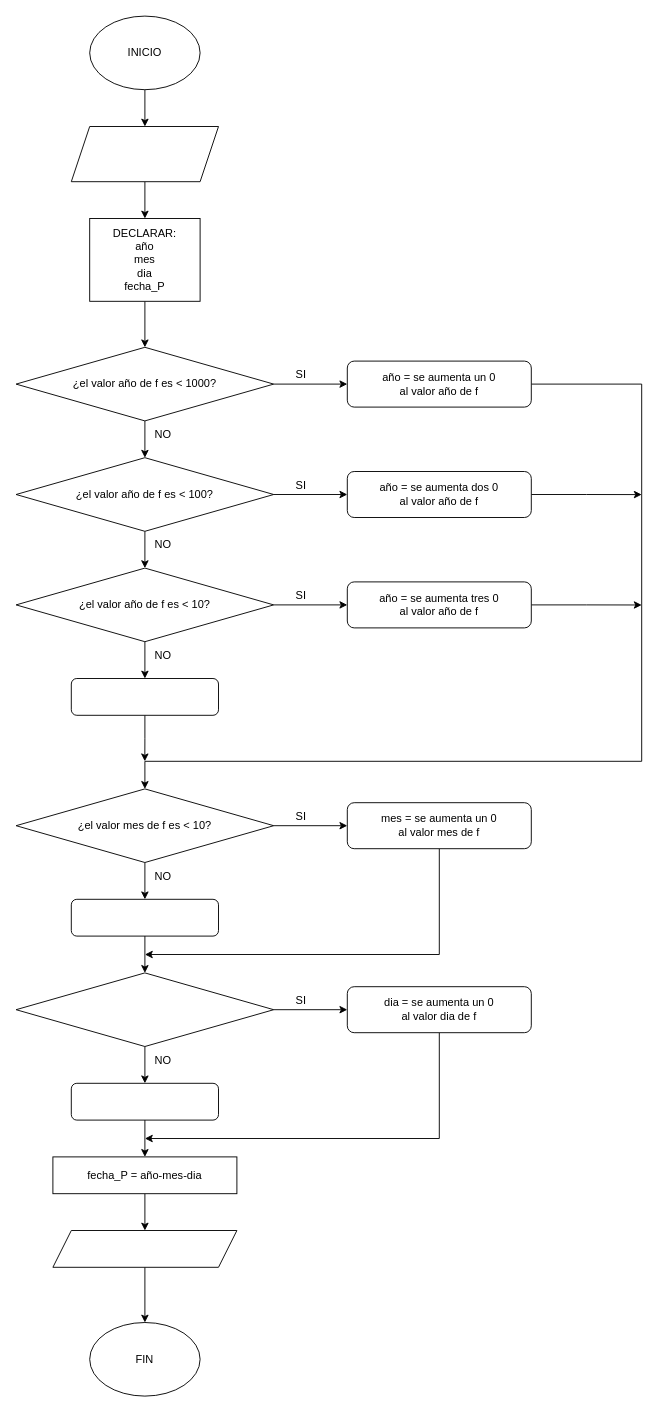
Some shapes in this 665 by 1412 pixel diagram are drawn without their labels. Each missing label, with the box of its shape:
ARGUMENTO: f: (70, 126, 218, 182)
año = valor año de f: (70, 678, 218, 715)
dia = valor dia de f: (70, 1082, 218, 1120)
mes = valor mes de f: (70, 898, 218, 936)
RETORNA: fecha_P: (52, 1230, 237, 1267)
¿el valor dia de f es < 10?: (15, 972, 274, 1046)
